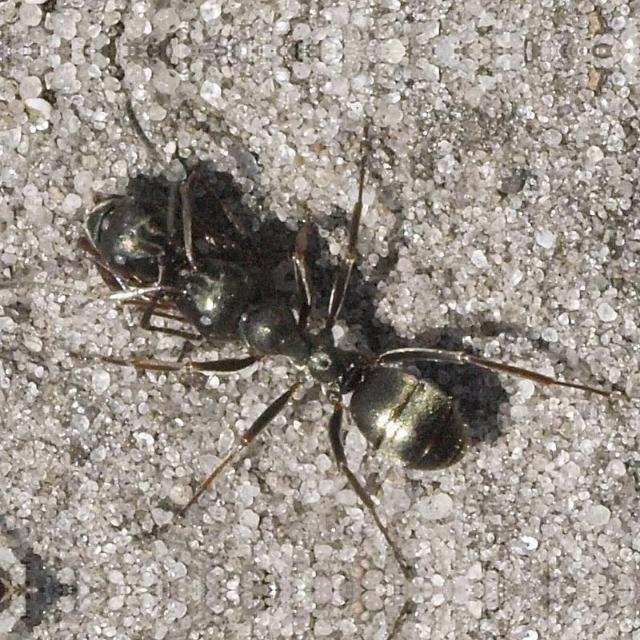Formica: (162, 247, 514, 527), (78, 172, 272, 336)
